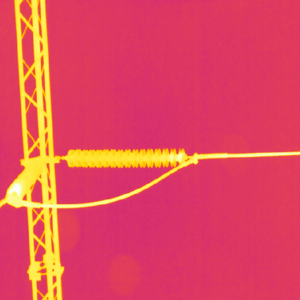insulator: (65, 146, 188, 169)
